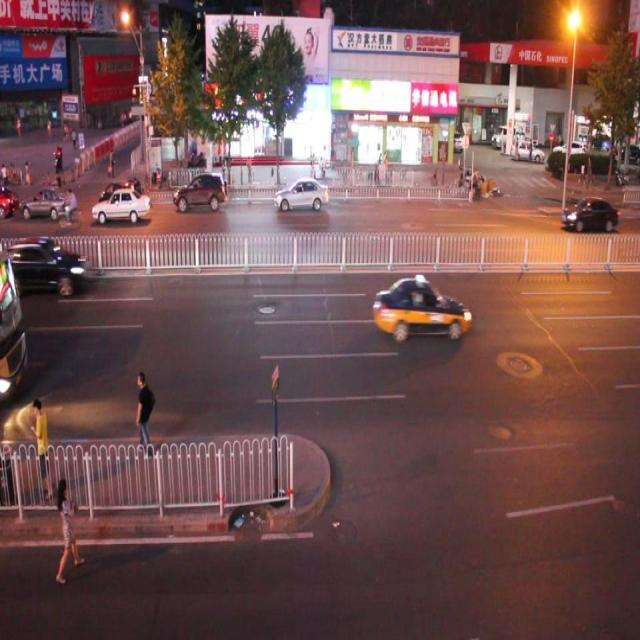car: (372, 276, 471, 341), (15, 237, 87, 295), (172, 169, 227, 211), (274, 174, 328, 214), (562, 195, 617, 232), (21, 184, 72, 223), (92, 188, 150, 221), (101, 180, 145, 223)
